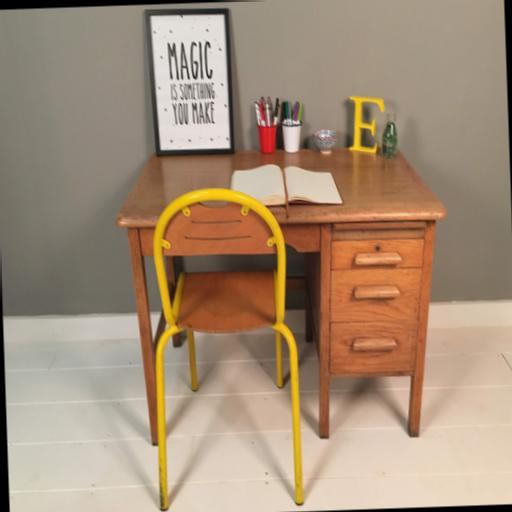chair: (147, 185, 303, 510)
desk: (112, 142, 454, 446)
wall: (0, 0, 512, 319)
